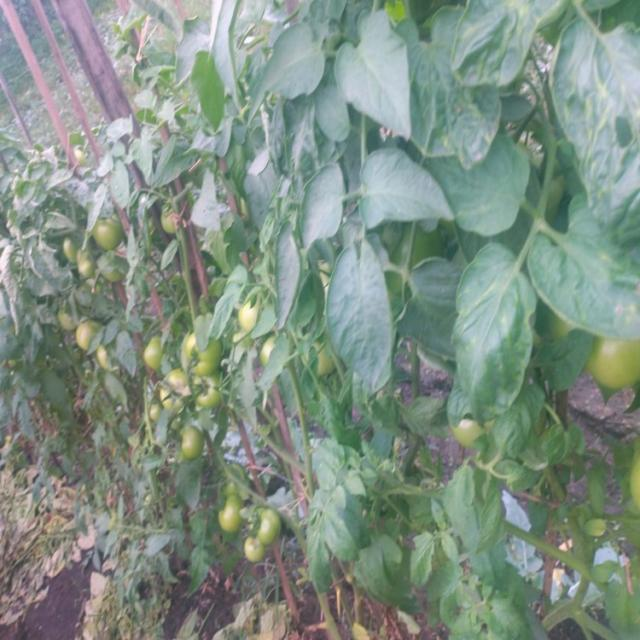tomato: (593, 337, 640, 392), (158, 378, 225, 413), (397, 226, 450, 260), (451, 415, 495, 449), (184, 331, 216, 375), (218, 490, 247, 534), (250, 505, 285, 541), (179, 423, 207, 466), (318, 336, 342, 382), (62, 244, 91, 282), (143, 329, 167, 372), (95, 219, 126, 247), (260, 332, 288, 362), (162, 207, 187, 235), (241, 303, 262, 332), (78, 319, 98, 347), (242, 544, 269, 563), (56, 308, 75, 327), (145, 405, 161, 426), (98, 354, 114, 368)
